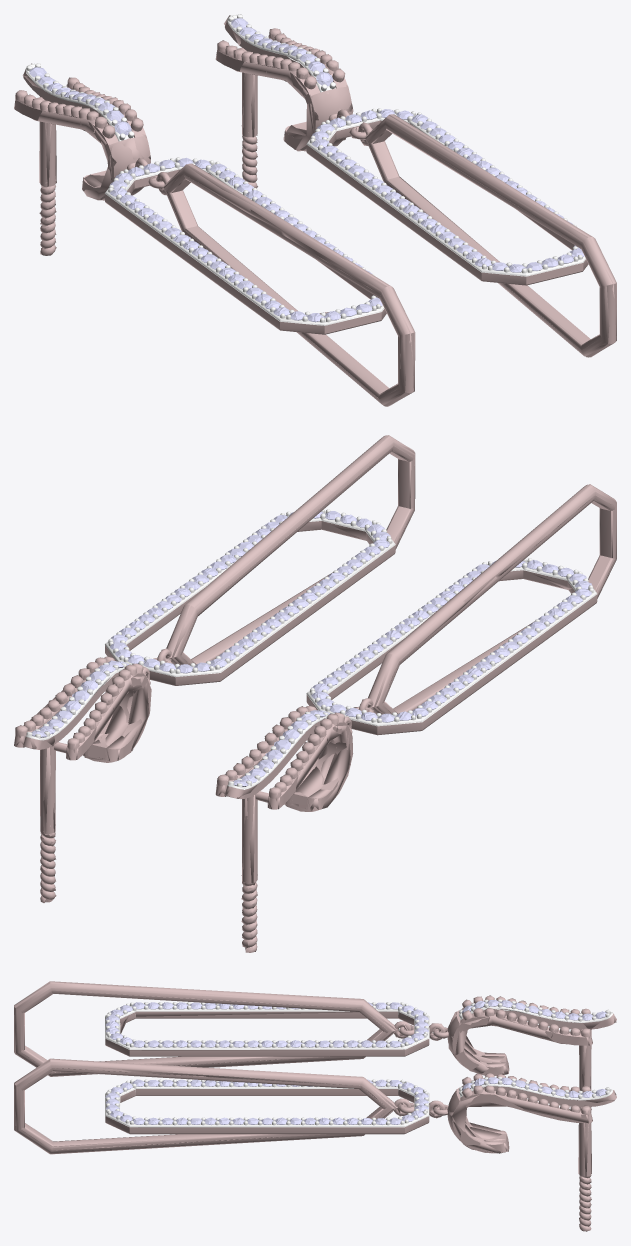
The picture shows the model from 3 angles, top to bottom: view 1: azimuth 30°, elevation 25°; view 2: azimuth 150°, elevation 25°; view 3: azimuth 270°, elevation 25°; orthographic projection. The views are drawn at different scales.
Visible parts, largest first — view 1: highPolyMesh, lowPolyMesh; view 2: highPolyMesh, lowPolyMesh; view 3: highPolyMesh, lowPolyMesh.
Boxes of the visible parts, x1,y1,x2,y2 form: highPolyMesh: [14, 14, 616, 406]; lowPolyMesh: [14, 14, 616, 406]; highPolyMesh: [14, 435, 616, 952]; lowPolyMesh: [15, 435, 616, 951]; highPolyMesh: [14, 981, 616, 1231]; lowPolyMesh: [14, 981, 616, 1231].
Bounding box in the file's own units: 0.0263 × 0.0171 × 0.0549.
